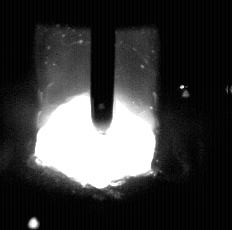arame: (92, 0, 115, 135)
poca: (34, 0, 157, 230)
